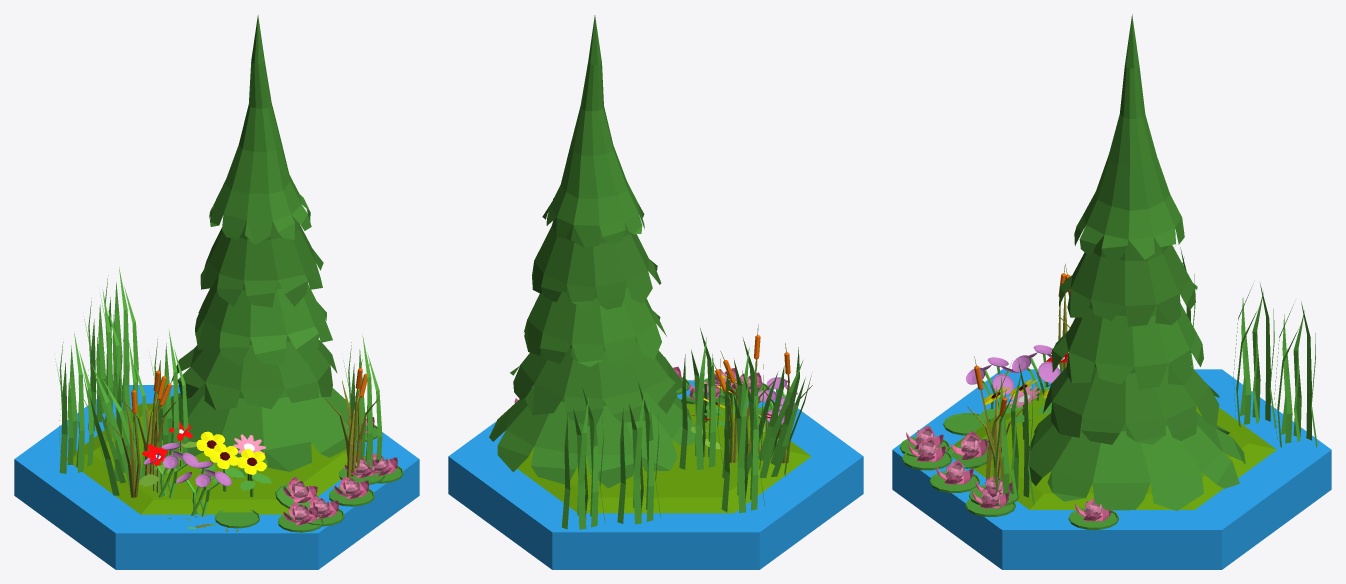
The model's file is landscape4.glb.
3 renders of one model, left to right at view 1: azimuth 30°, elevation 25°; view 2: azimuth 150°, elevation 25°; view 3: azimuth 270°, elevation 25°, orthographic. The views are drawn at different scales.
Visible parts, largest first — view 1: ziran.855, ziran.823, ziran.860, ziran.861, ziran.859, ziran.857, ziran.858, ziran.862, ziran.856, ziran.866, ziran.863, ziran.880 (+11 smaller); view 2: ziran.855, ziran.823, ziran.861, ziran.859, ziran.860, ziran.857, ziran.858, ziran.856, ziran.863; view 3: ziran.855, ziran.823, ziran.859, ziran.858, ziran.862, ziran.866, ziran.868, ziran.867, ziran.877, ziran.871, ziran.870, ziran.869 (+4 smaller).
Part boxes in pixels (<box>): ziran.855: <box>162,15,367,471</box>; ziran.823: <box>14,385,419,569</box>; ziran.860: <box>55,331,93,473</box>; ziran.861: <box>77,363,143,495</box>; ziran.859: <box>84,289,122,431</box>; ziran.857: <box>149,330,188,468</box>; ziran.858: <box>100,267,138,406</box>; ziran.862: <box>343,335,382,469</box>; ziran.856: <box>110,340,146,481</box>; ziran.866: <box>325,359,378,478</box>; ziran.863: <box>123,362,176,476</box>; ziran.880: <box>176,461,231,516</box>; ziran.855: <box>489,15,695,488</box>; ziran.823: <box>448,380,863,569</box>; ziran.861: <box>747,347,811,478</box>; ziran.859: <box>617,382,660,524</box>; ziran.860: <box>721,370,765,513</box>; ziran.857: <box>679,328,722,469</box>; ziran.858: <box>561,387,605,529</box>; ziran.856: <box>722,337,763,478</box>; ziran.863: <box>720,324,773,462</box>; ziran.855: <box>1029,14,1245,510</box>; ziran.823: <box>892,369,1331,569</box>; ziran.859: <box>1233,283,1276,429</box>; ziran.858: <box>1274,301,1317,448</box>; ziran.862: <box>992,360,1034,506</box>; ziran.866: <box>967,356,1028,488</box>; ziran.868: <box>930,460,979,492</box>; ziran.867: <box>902,437,952,470</box>; ziran.877: <box>1012,345,1062,400</box>; ziran.871: <box>1068,498,1118,529</box>; ziran.870: <box>950,431,993,468</box>; ziran.869: <box>965,484,1015,516</box>.
Bounding box in the file's own units: 4.33 × 6.31 × 5.
Materials: 1 (1 with a texture image).
